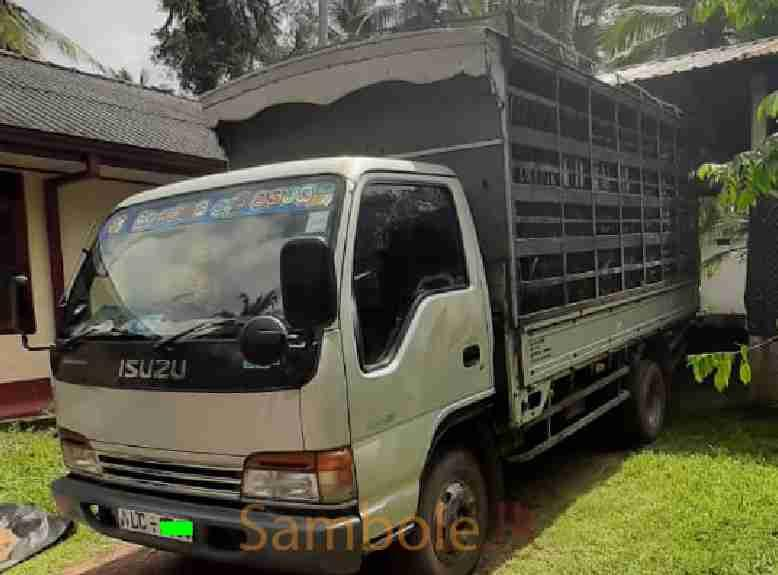truck: (10, 14, 700, 575)
